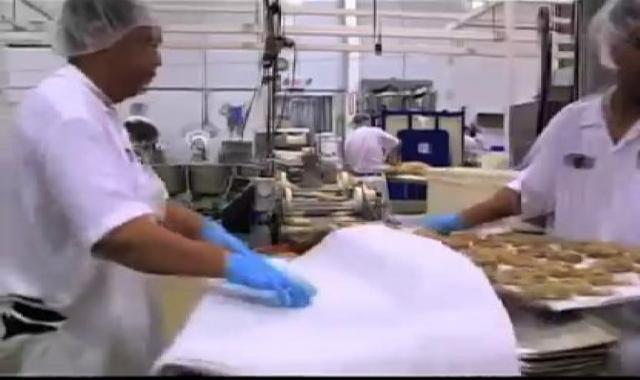hairnet: (44, 0, 180, 61)
